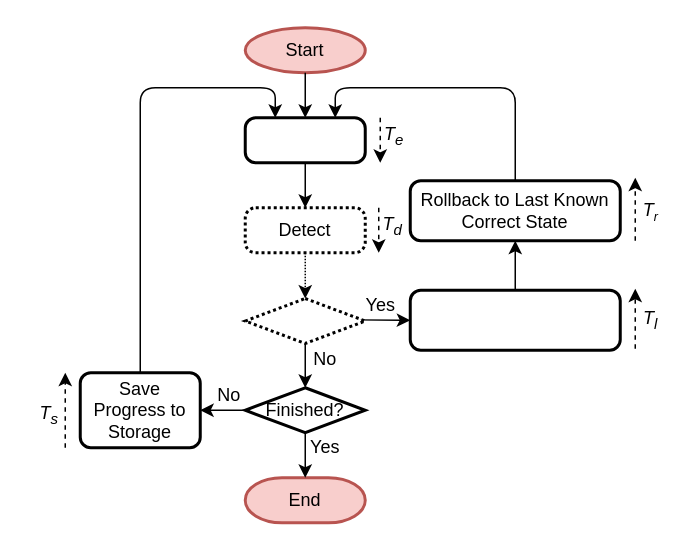
The diagram is 698 pixels wide and 549 high, and some of its shapes have lost their labels. The shapes that lost their labels are listed below. From the top down, each one's centre as x and y in pixels, then its label:
At [304,140]: "Execute".
At [304,320]: "Detected?".
At [514,319]: "Load Last Consistent Progress from Storage".
